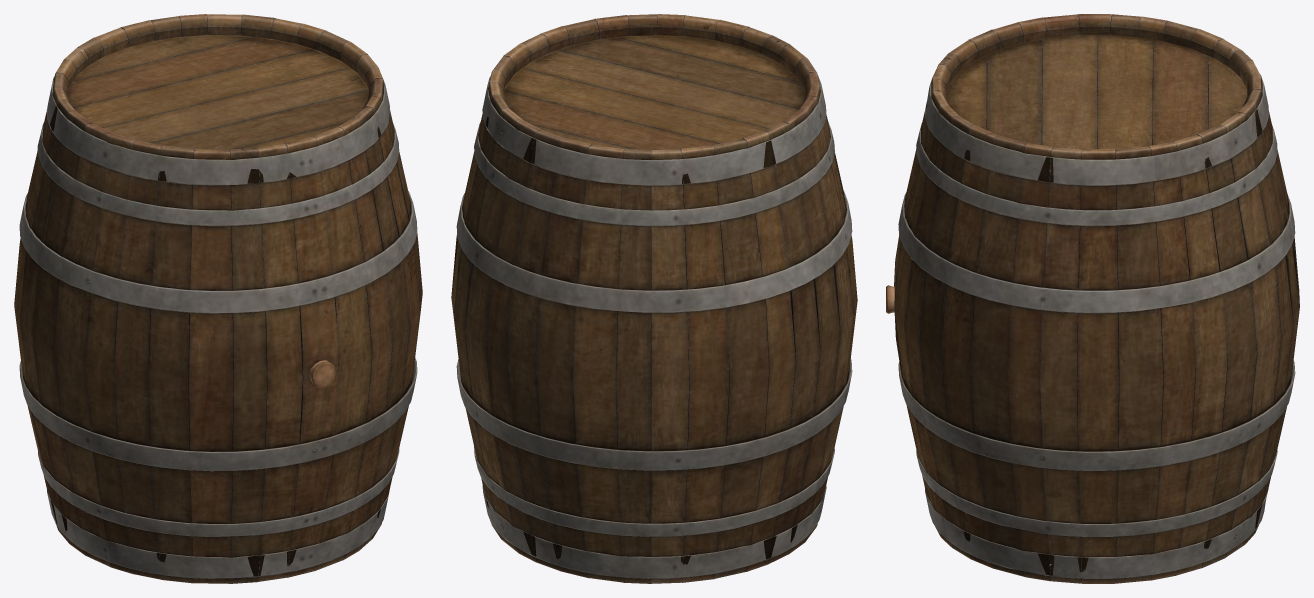
Rendered from wine_barrel_01_lod1.glb.
3 views of the same model, side by side, from view 1: azimuth 30°, elevation 25°; view 2: azimuth 150°, elevation 25°; view 3: azimuth 270°, elevation 25° (orthographic).
Parts seen in each view (by area): view 1: wine_barrel_01, wine_barrel_01_Lid, wine_barrel_01_bung; view 2: wine_barrel_01, wine_barrel_01_Lid; view 3: wine_barrel_01, wine_barrel_01_Lid.
Part boxes in pixels (box(x1,y1,x2,y2)): wine_barrel_01: box(14, 14, 422, 583); wine_barrel_01_Lid: box(67, 35, 368, 149); wine_barrel_01_bung: box(309, 360, 336, 387); wine_barrel_01: box(451, 14, 857, 583); wine_barrel_01_Lid: box(503, 35, 805, 152); wine_barrel_01: box(894, 14, 1299, 583); wine_barrel_01_Lid: box(946, 35, 1247, 149).
Size of the model in its own units: 0.7419 by 0.8713 by 0.756.
1 material, 1 textured.
